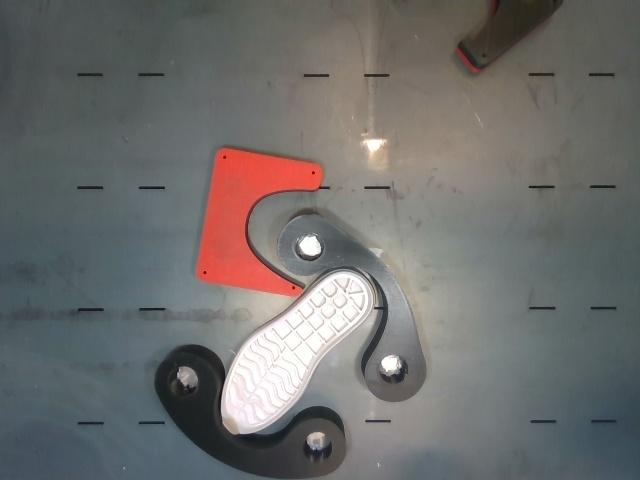shoes: (221, 271, 373, 434)
